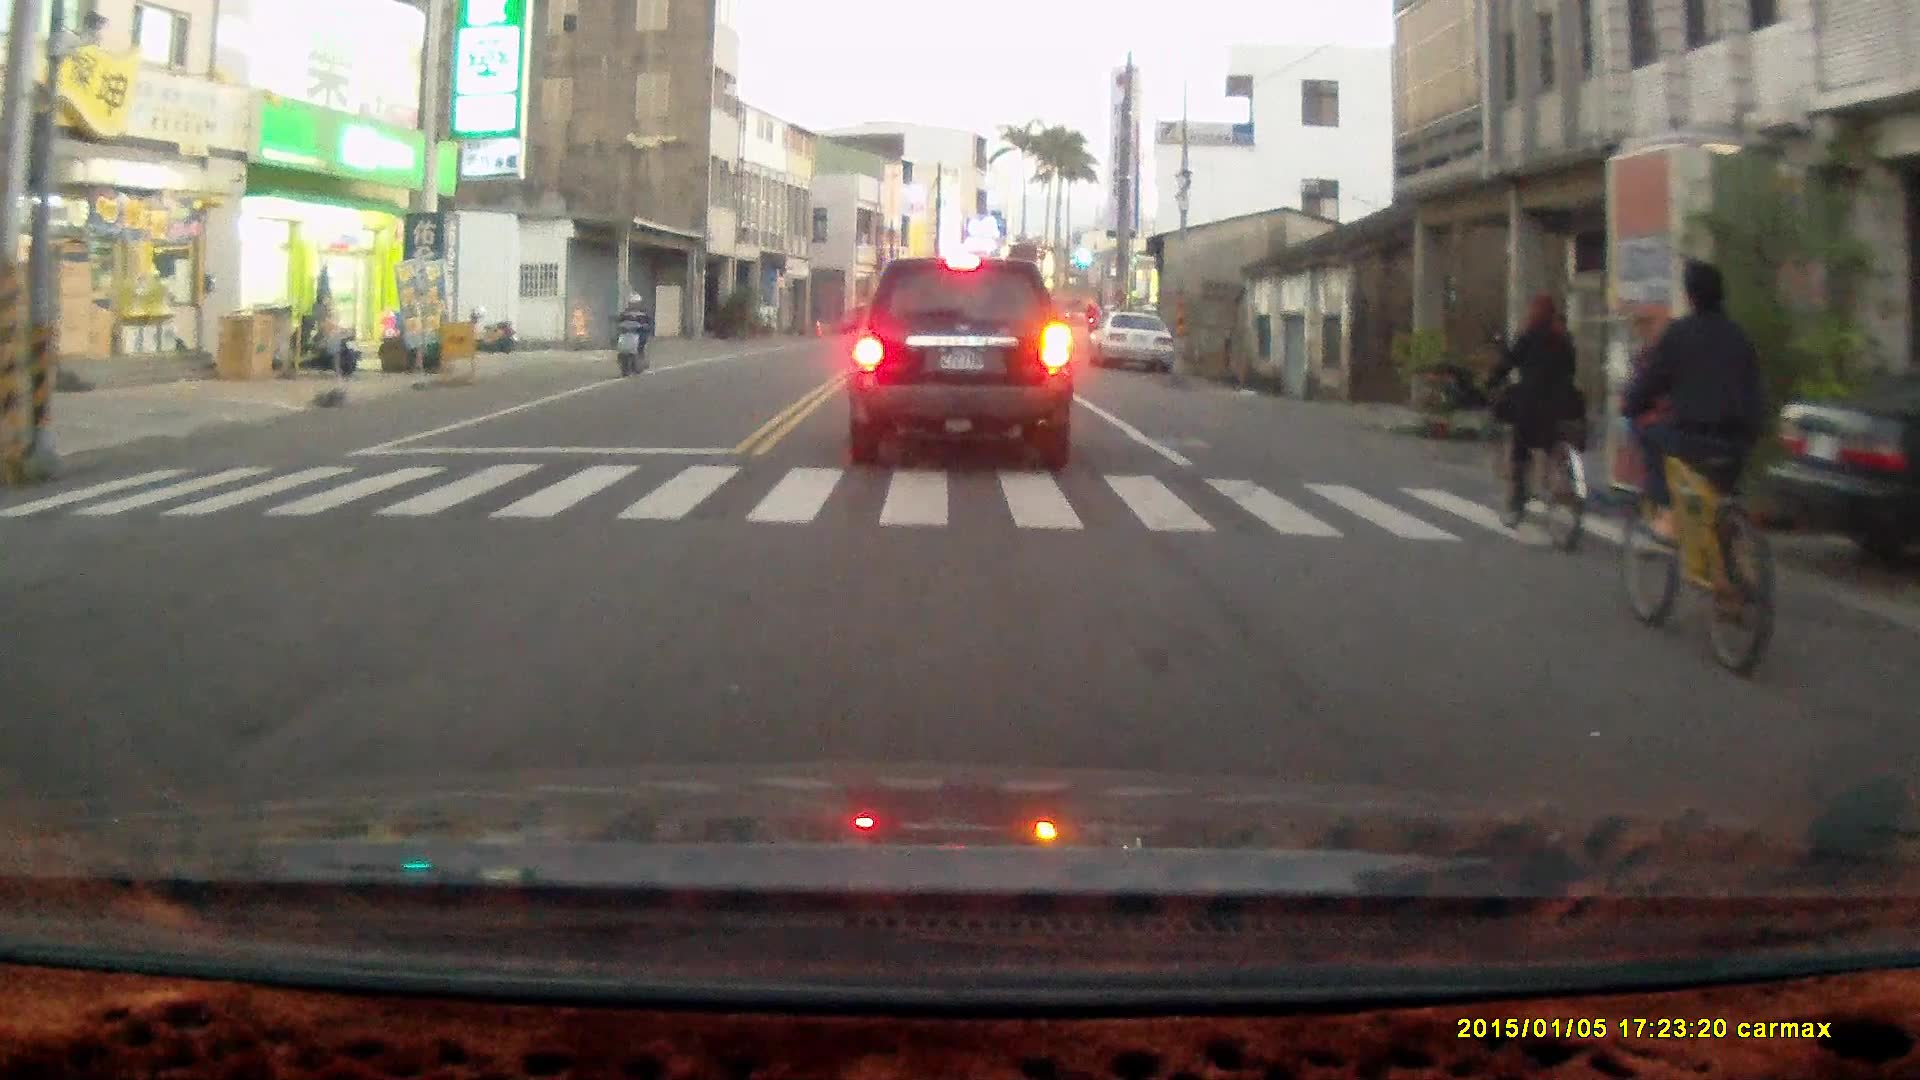rider: (1612, 252, 1788, 676), (1474, 287, 1596, 554), (609, 287, 653, 377)
vehicle: (844, 246, 1087, 466), (1762, 385, 1920, 561), (1096, 313, 1177, 372)
